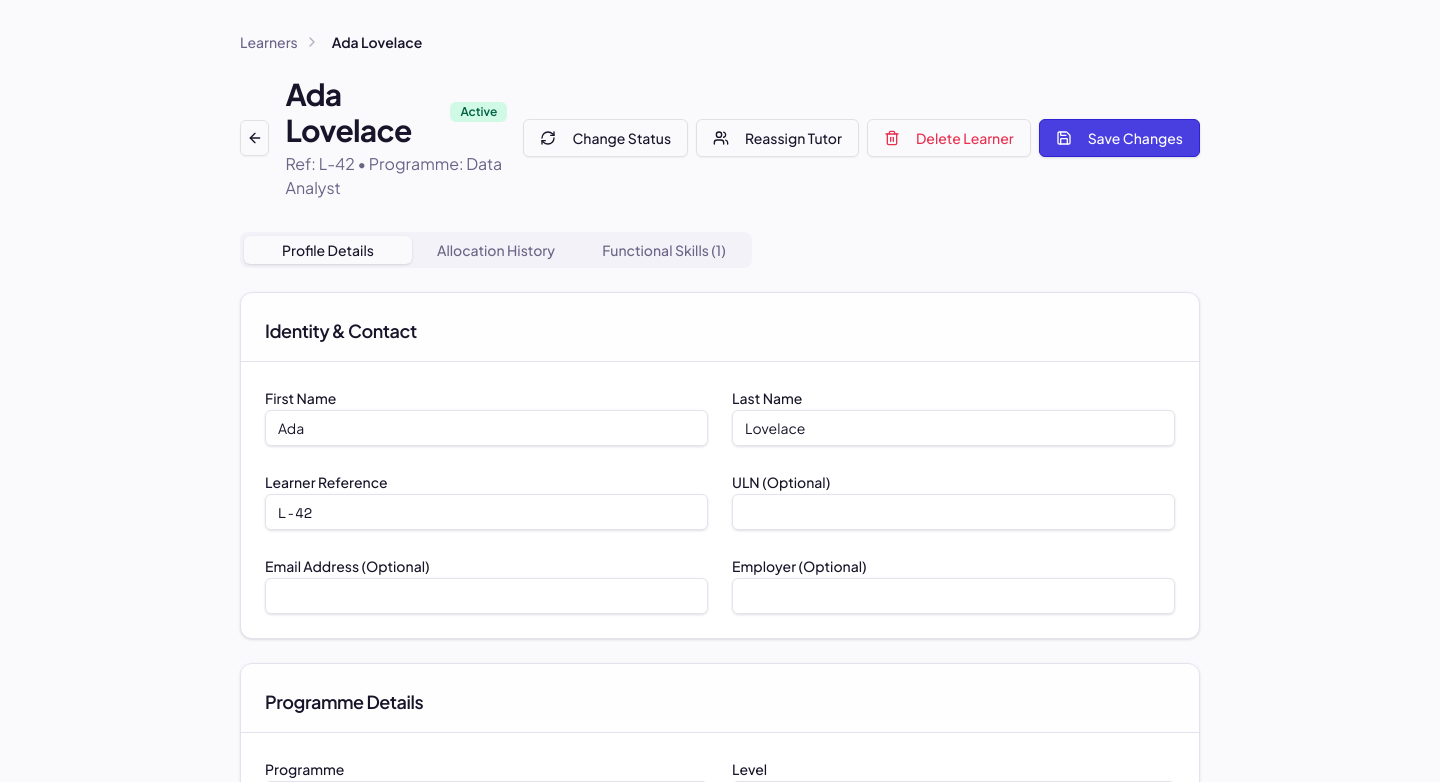
Scenario: LearnerDetailPage for an existing learner › requires both a new tutor and a reason before confirming a reassignment
Click the button "Reassign Tutor": x=778, y=138 [696,119,859,157]
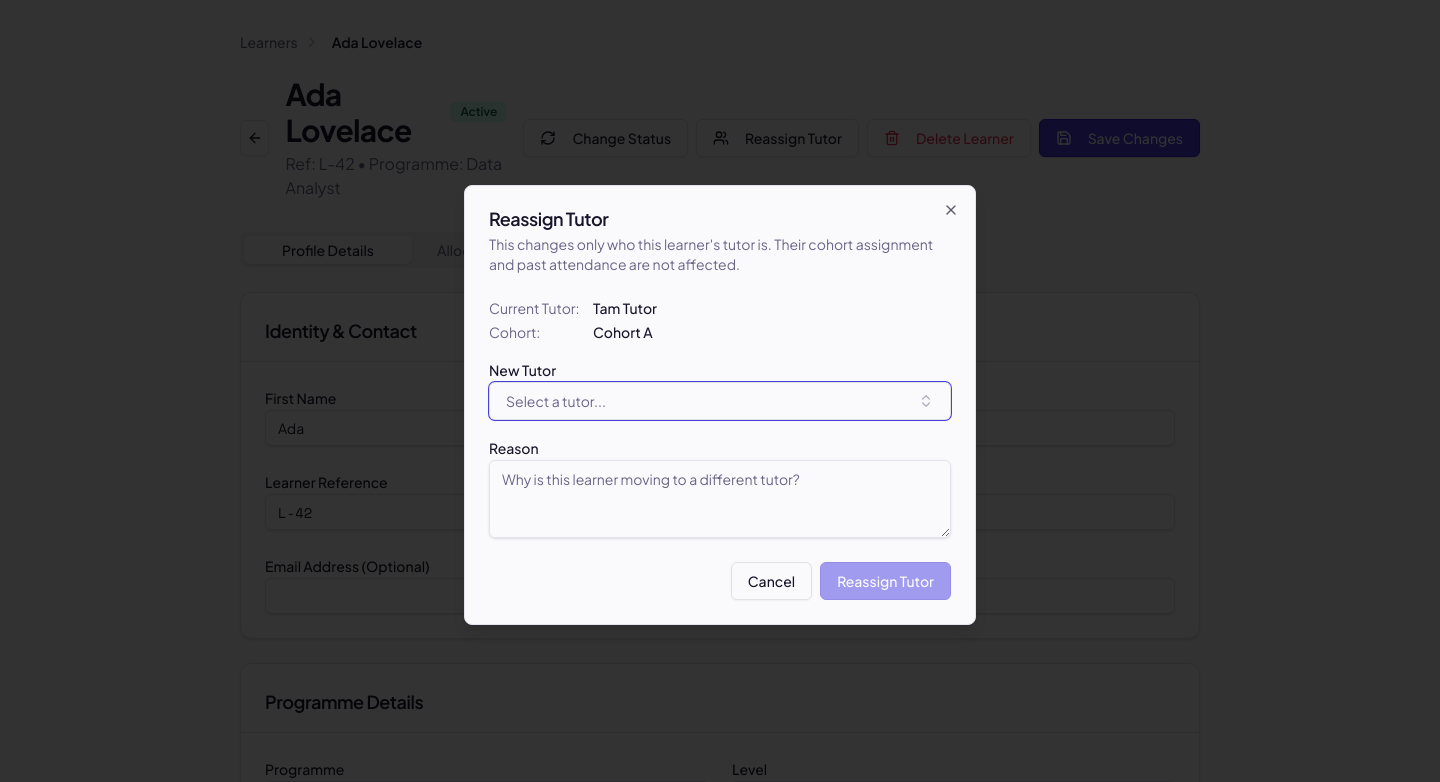
Expected: the button "Reassign Tutor" is disabled, [820,562,951,600]
Click the dropdown named "new tutor": x=556, y=401 [489,382,951,420]
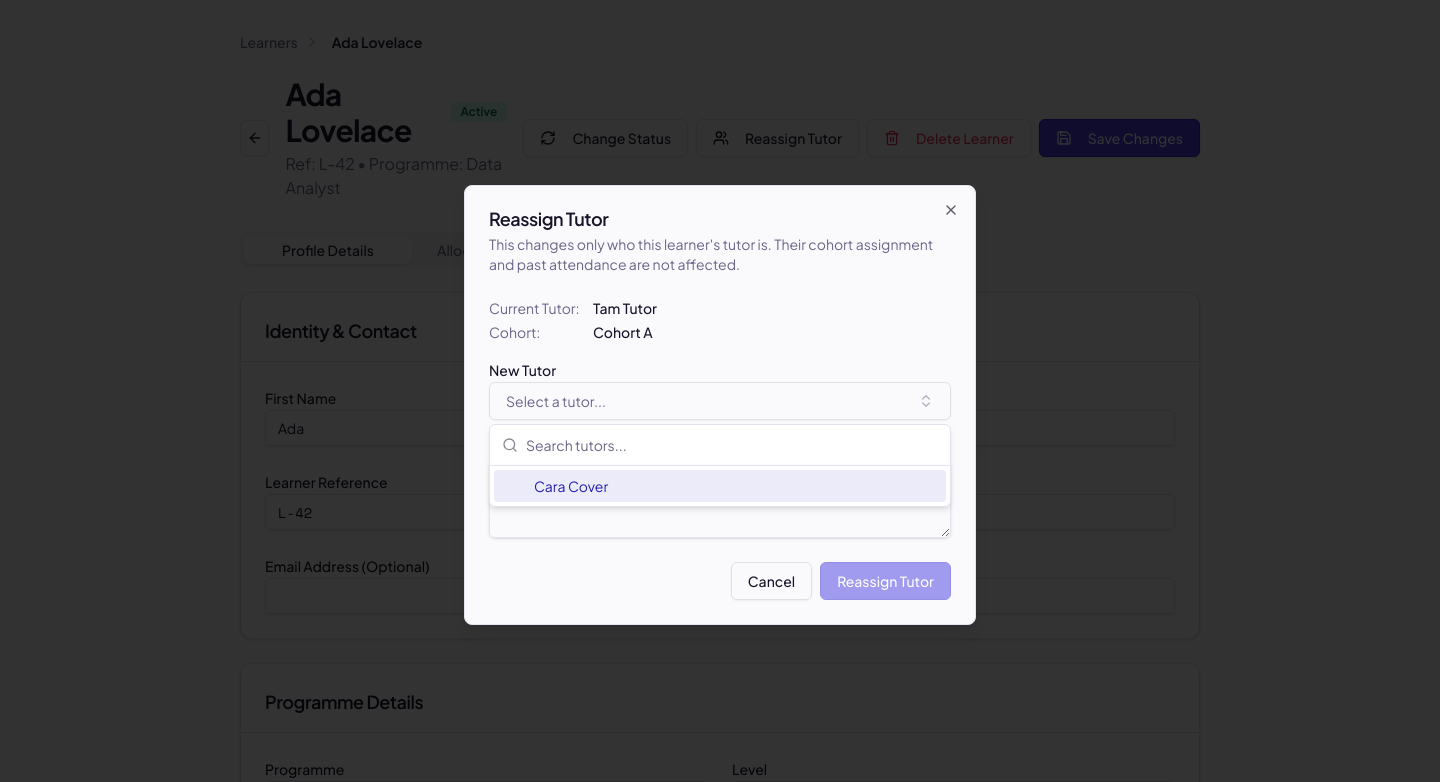
Click the option "Cara Cover": x=571, y=486 [494,470,946,502]
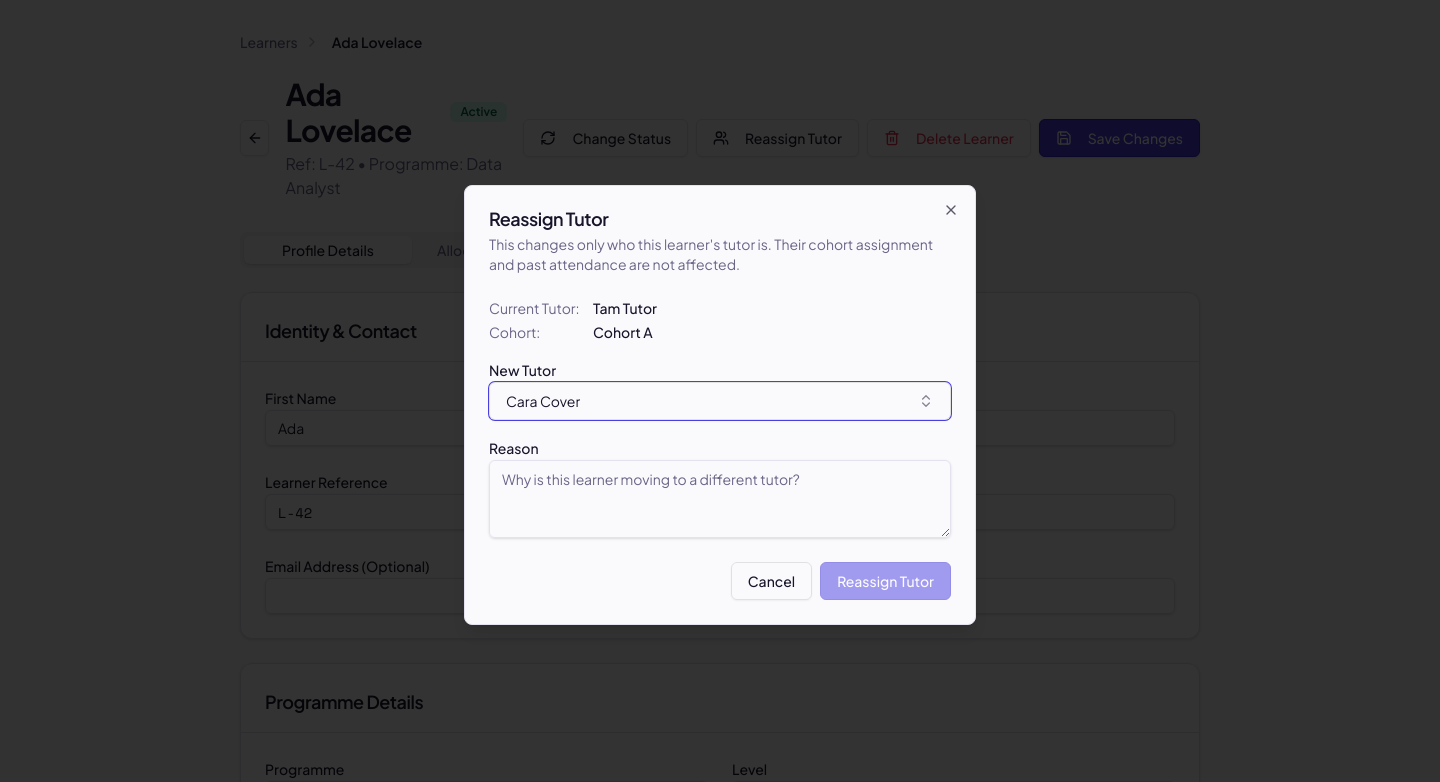
Expected: the button "Reassign Tutor" is disabled, [820,562,951,600]
In the text box labelled "Reason": x=720, y=499 [489,460,951,538], type "Tam is on leave"
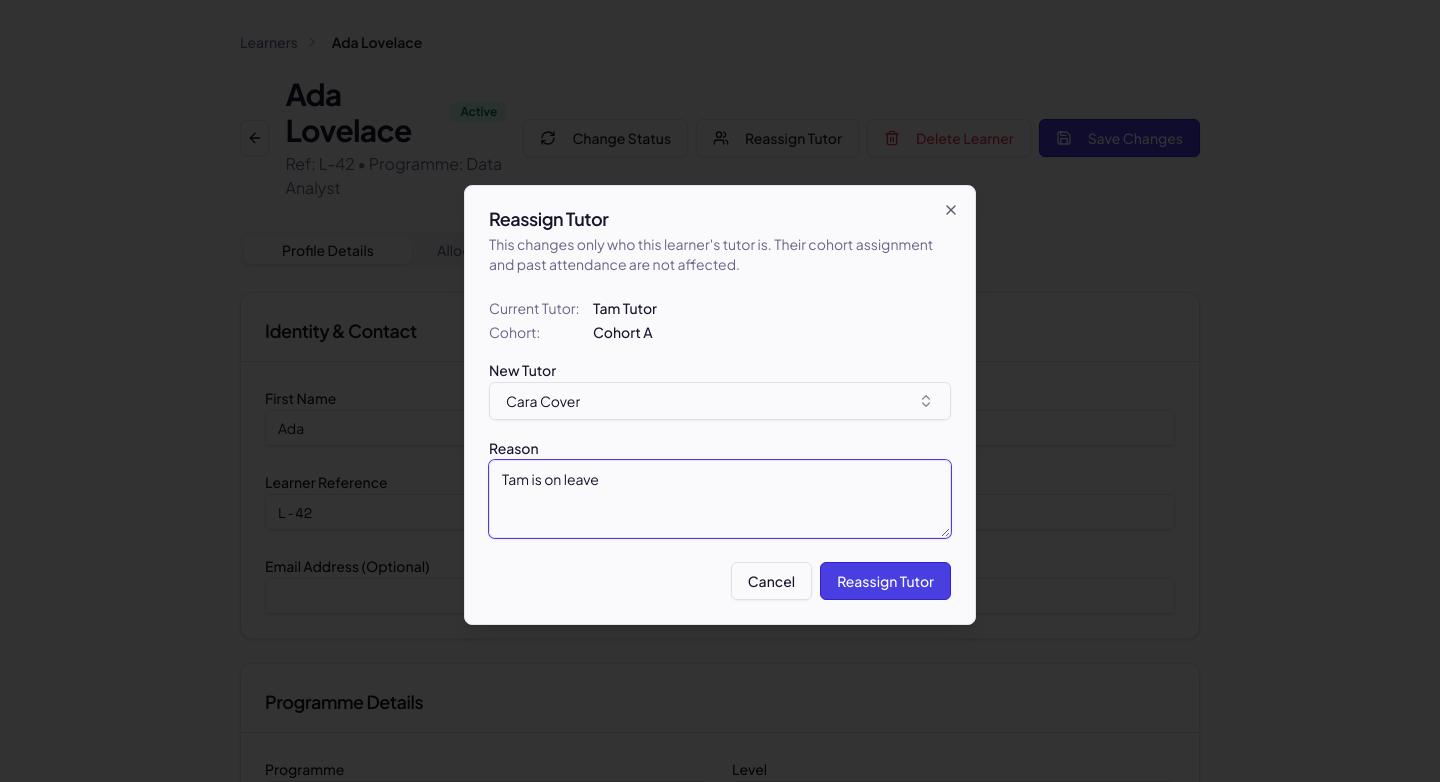
Expected: the button "Reassign Tutor" is enabled, [820,562,951,600]
